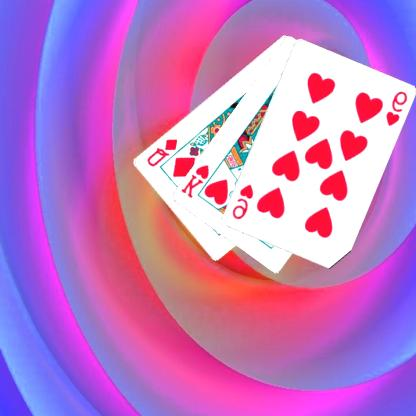9H: (231, 181, 256, 221), (385, 88, 410, 128)
KH: (180, 162, 212, 199)
QD: (146, 136, 180, 168)
